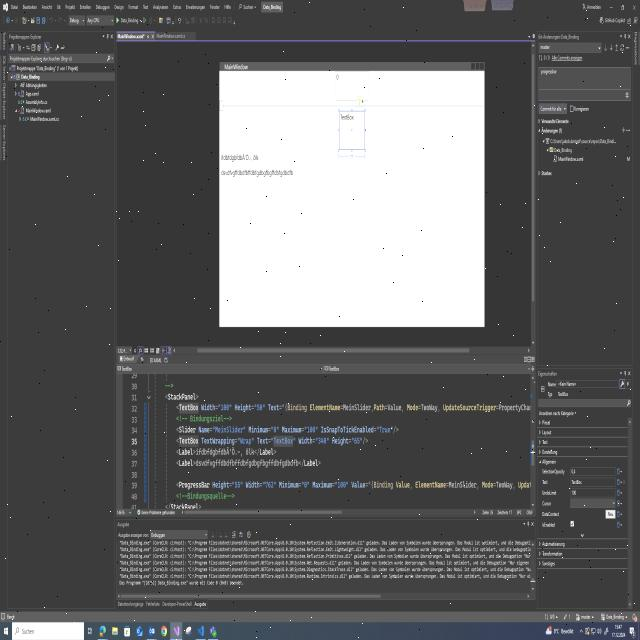input: (336, 105, 369, 158), (333, 67, 372, 102), (12, 622, 84, 640)
